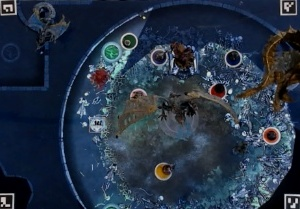blue: (223, 48, 245, 68)
green: (121, 30, 141, 52)
orange: (260, 124, 282, 148)
pink: (131, 86, 150, 104)
red: (209, 82, 229, 102)
violet: (150, 47, 170, 67)
yellow: (151, 160, 174, 182)
